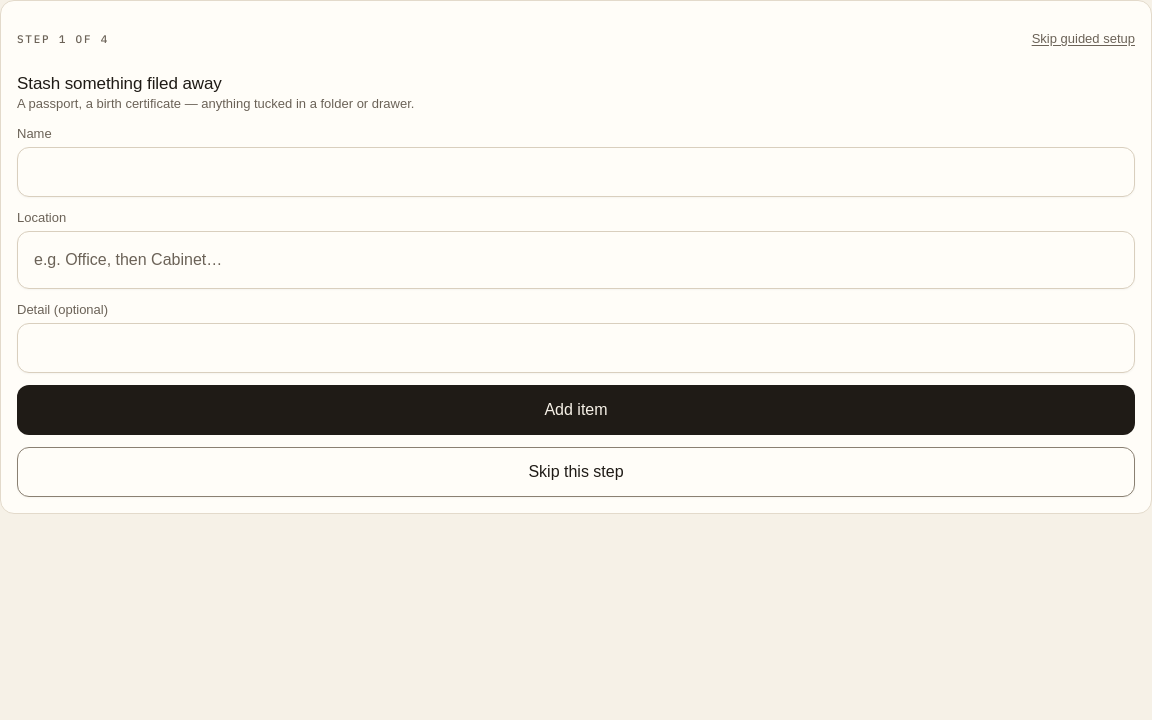
Scenario: skipping every item step reaches the invite step, with a real link and a finish control
Click the button "Skip this step" at (576, 472), box left=17, top=447, right=1135, bottom=497
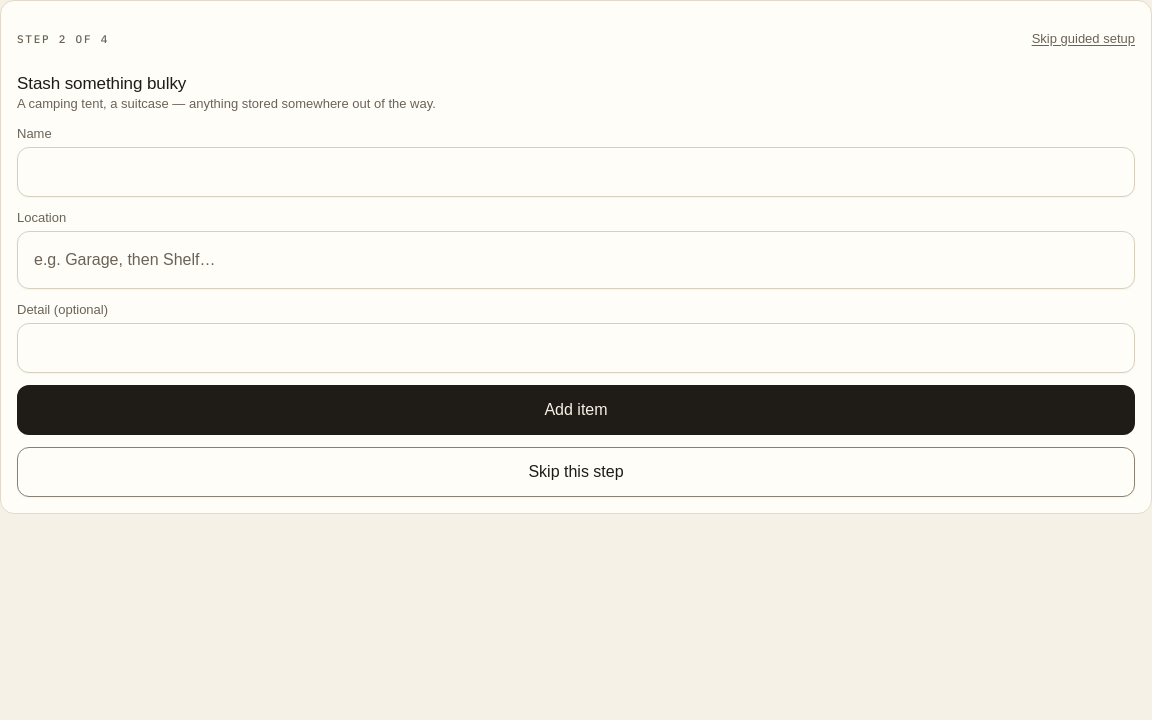
Click the button "Skip this step" at (576, 472), box left=17, top=447, right=1135, bottom=497
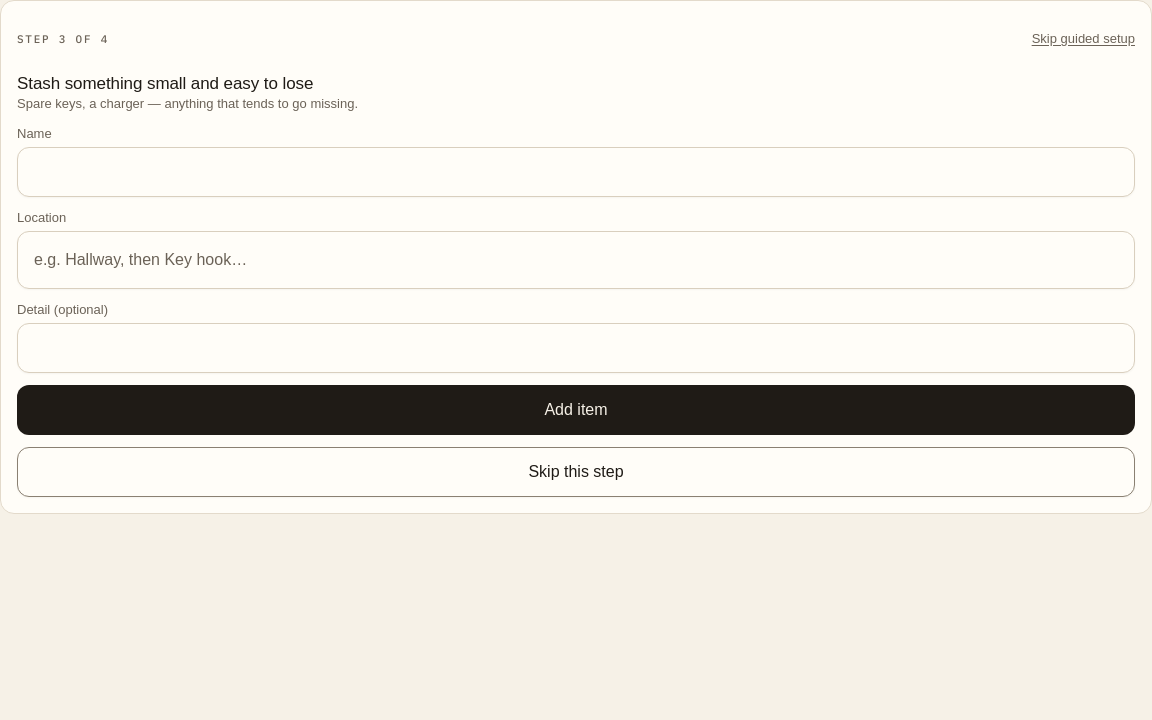
Click the button "Skip this step" at (576, 472), box left=17, top=447, right=1135, bottom=497
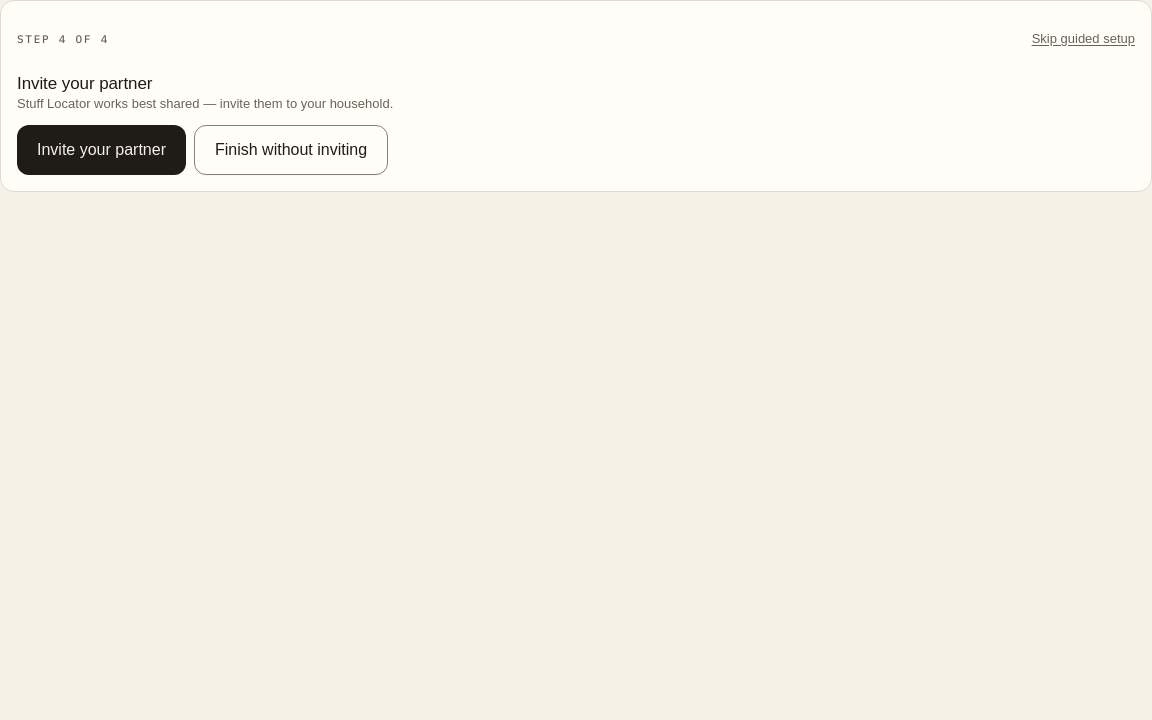
Result: the text "Step 4 of 4" is shown at left=17, top=32, right=109, bottom=46
Result: the heading "Invite your partner" is shown at left=17, top=74, right=152, bottom=93
Result: the button "Invite your partner" is shown at left=17, top=125, right=186, bottom=175
